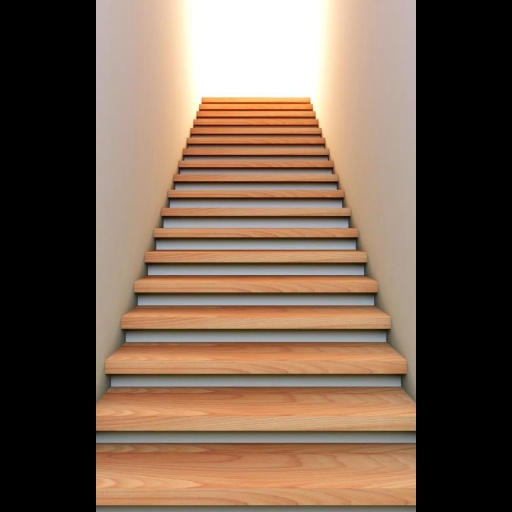Stairs: (97, 99, 415, 512)
